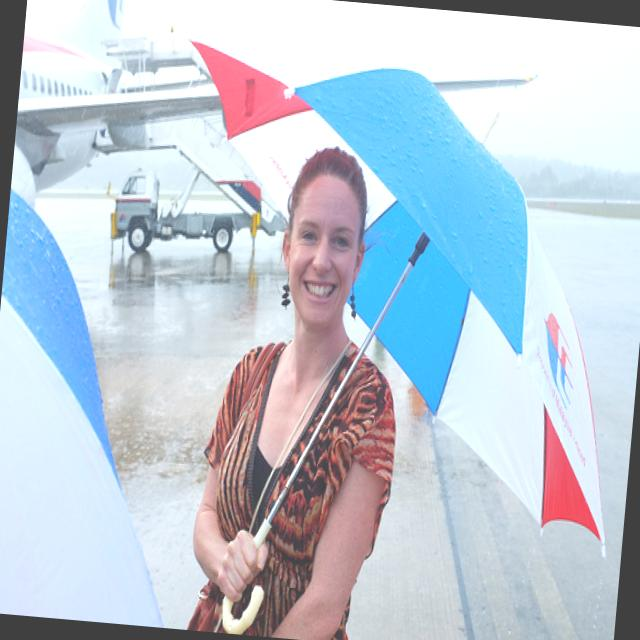Vehicle: (107, 104, 298, 265)
